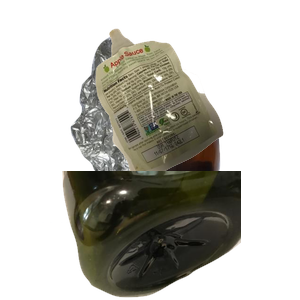glass: (29, 120, 242, 300)
metal: (68, 34, 300, 214)
plastic: (60, 171, 300, 300)
trash: (93, 26, 300, 200)
